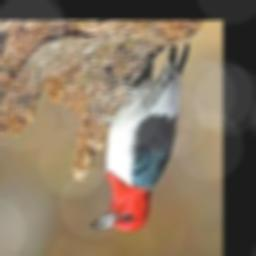Woodpecker: (90, 42, 190, 233)
